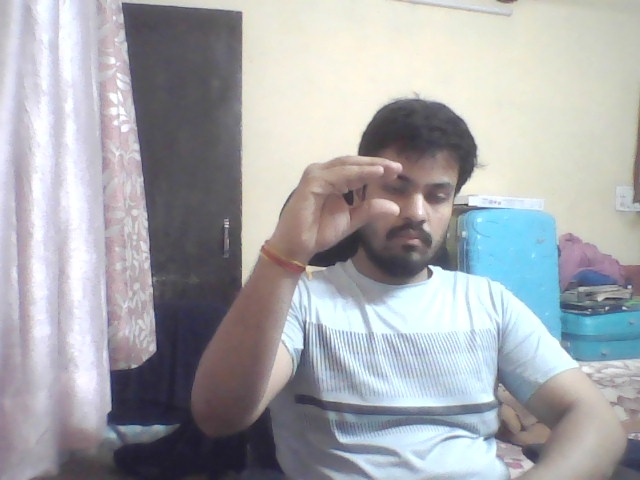No: (256, 136, 420, 299)
